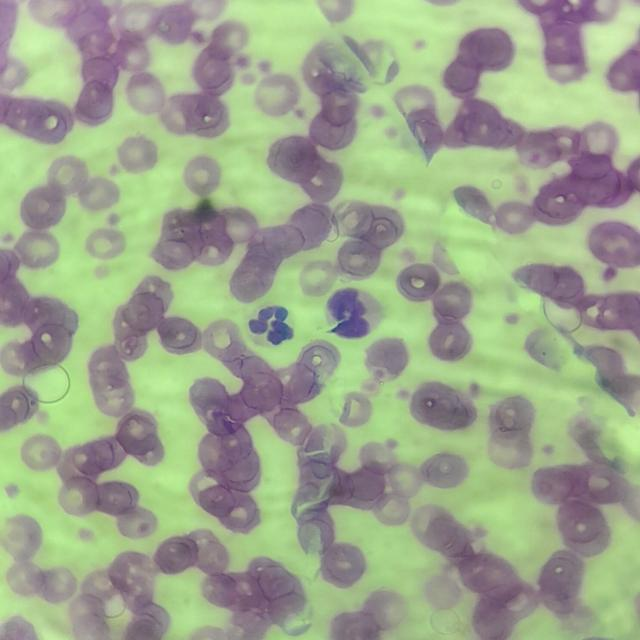Neutrofilo: (325, 286, 385, 338), (244, 300, 297, 347)
